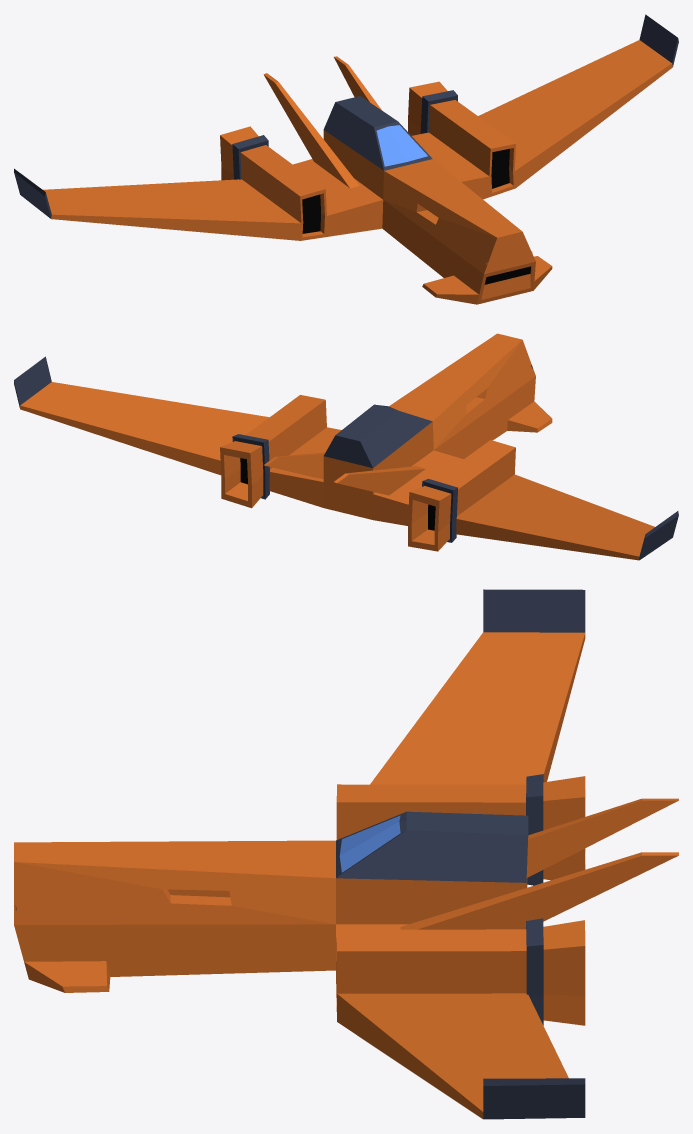
The model's file is StalkerValkyrie.fbx.
3 views of the same model, one above another, from view 1: azimuth 30°, elevation 25°; view 2: azimuth 150°, elevation 25°; view 3: azimuth 270°, elevation 25° (orthographic). The views are drawn at different scales.
Visible parts, largest first — view 1: StalkerValkyrie; view 2: StalkerValkyrie; view 3: StalkerValkyrie.
Part boxes in pixels (x1,y1,x2,y2): StalkerValkyrie: [14, 14, 678, 304]; StalkerValkyrie: [14, 333, 678, 560]; StalkerValkyrie: [14, 589, 678, 1119].
Size of the model in its own units: 25.56 by 3.32 by 14.64.
